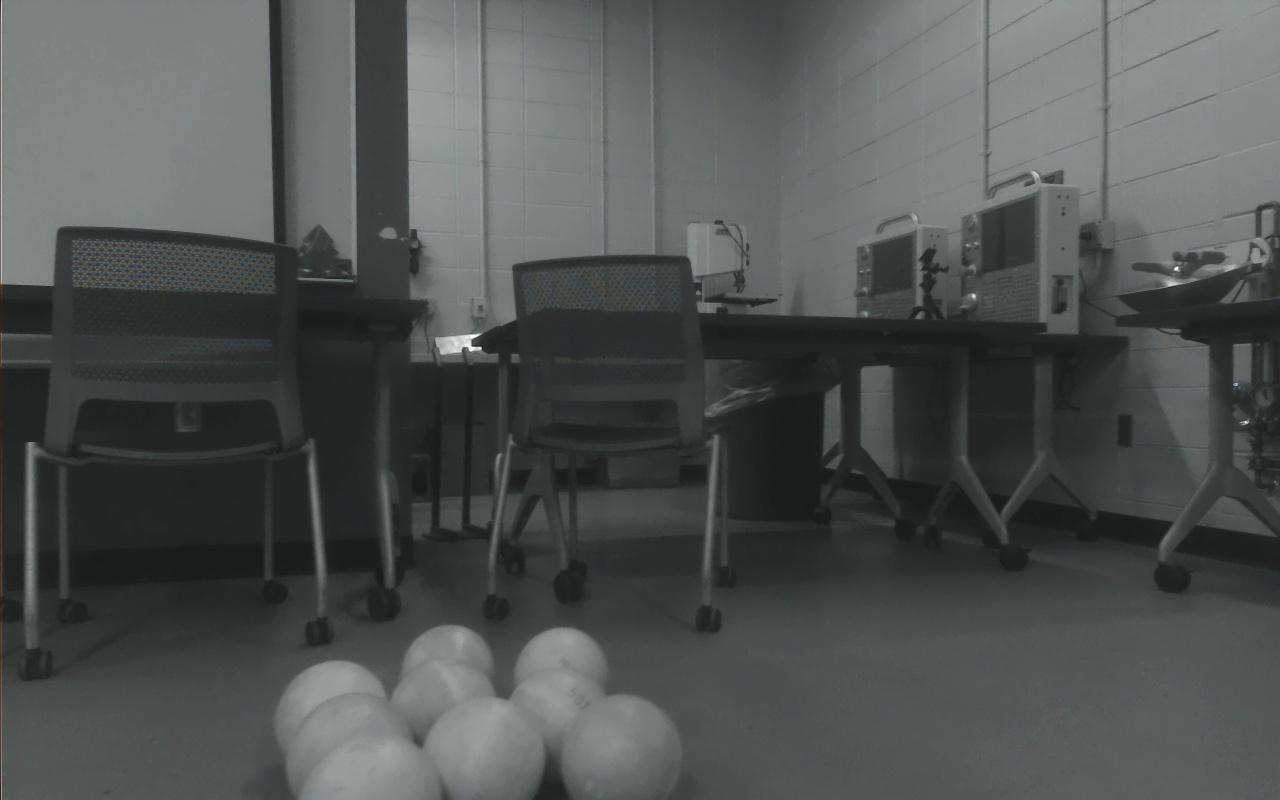Fuel: (285, 691, 413, 800), (421, 695, 547, 800), (274, 660, 389, 775), (559, 694, 682, 800), (506, 666, 611, 789), (388, 656, 498, 765), (511, 626, 611, 726), (402, 625, 498, 722), (300, 734, 440, 800)
